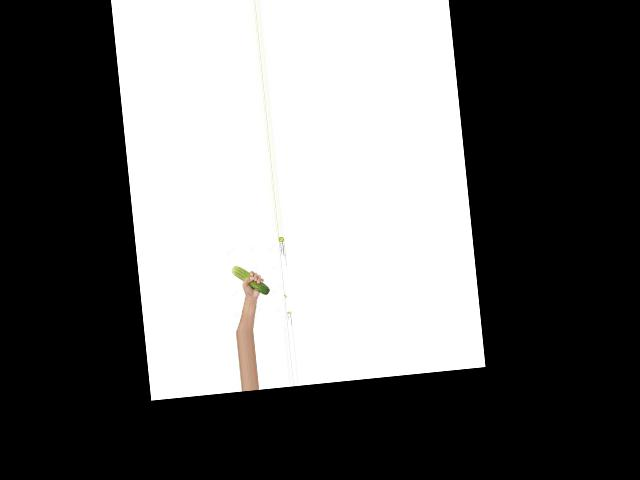cucumber: (231, 263, 270, 298)
